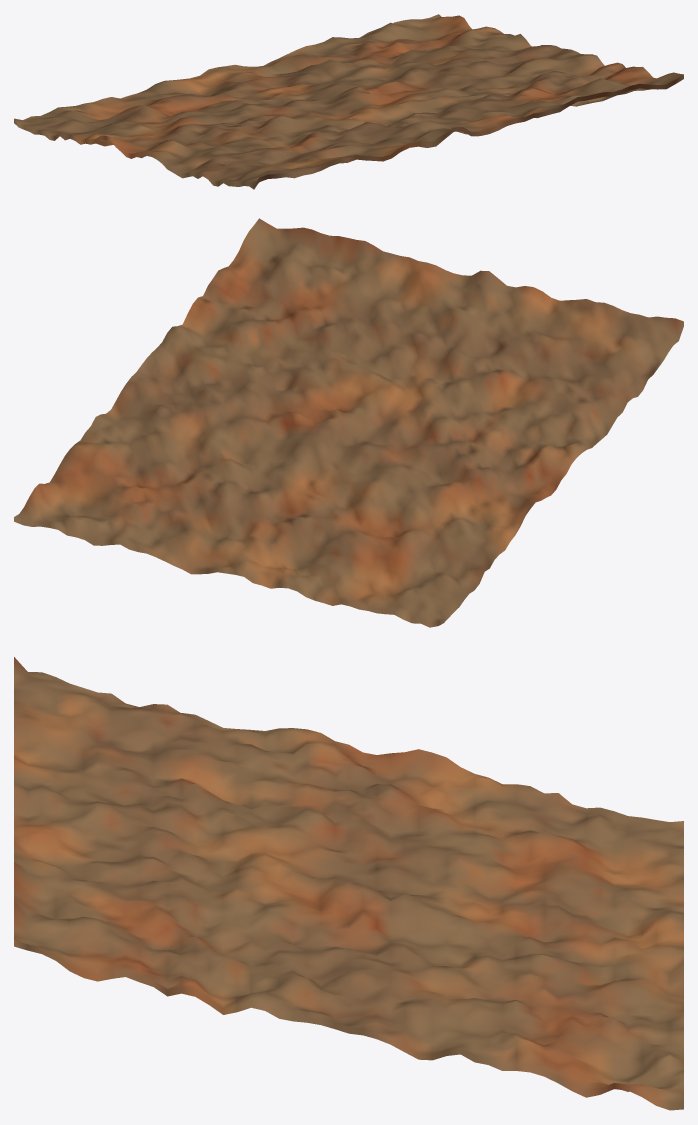
File: terrain-144.glb
The picture shows the model from 3 angles, top to bottom: view 1: azimuth 30°, elevation 25°; view 2: azimuth 150°, elevation 25°; view 3: azimuth 270°, elevation 25°; orthographic projection. The views are drawn at different scales.
Parts seen in each view (by area): view 1: terrain-144; view 2: terrain-144; view 3: terrain-144.
Boxes of the visible parts, x1=… form: terrain-144: x1=14, y1=14, x2=683, y2=189; terrain-144: x1=14, y1=218, x2=683, y2=627; terrain-144: x1=14, y1=657, x2=683, y2=1110.
Size of the model in its own units: 384 by 118 by 384.
